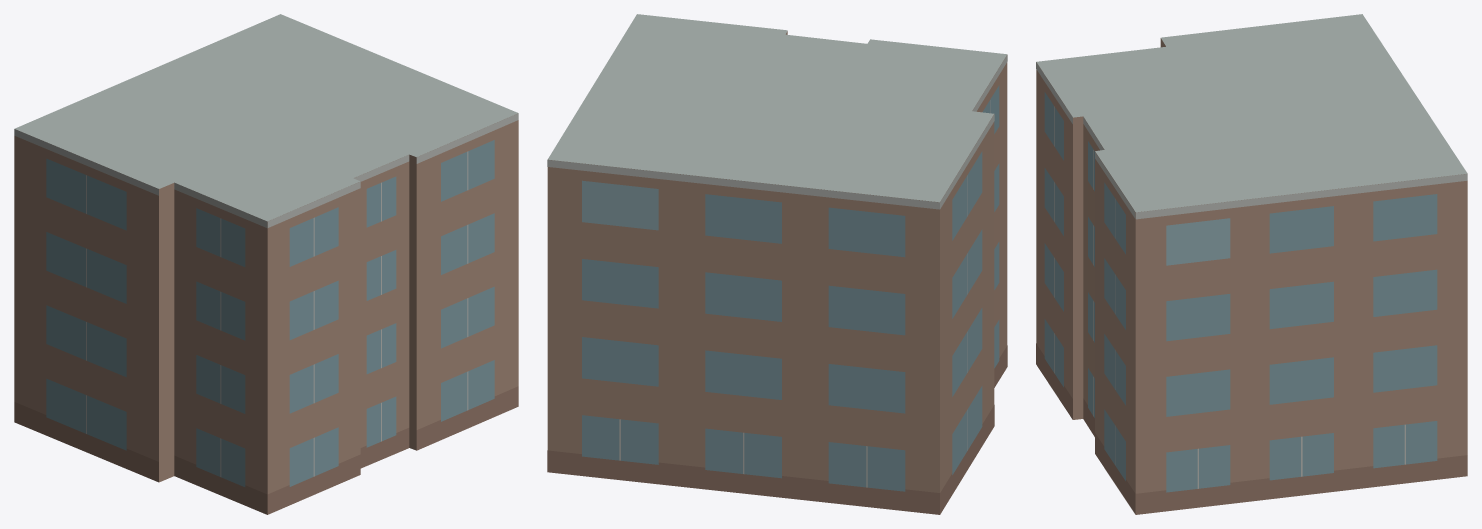
The model's file is survey-upis-32927132.glb.
The picture shows the model from 3 angles, left to right: view 1: azimuth 30°, elevation 25°; view 2: azimuth 150°, elevation 25°; view 3: azimuth 270°, elevation 25°; orthographic projection. The views are drawn at different scales.
Visible parts, largest first — view 1: survey-upis-32927132.tmp; view 2: survey-upis-32927132.tmp; view 3: survey-upis-32927132.tmp.
Boxes of the visible parts, bbox=[...] form: survey-upis-32927132.tmp: bbox=[14, 14, 518, 514]; survey-upis-32927132.tmp: bbox=[547, 14, 1007, 514]; survey-upis-32927132.tmp: bbox=[1036, 14, 1467, 514].
Bounding box in the file's own units: 14.78 × 10.5 × 13.59.
